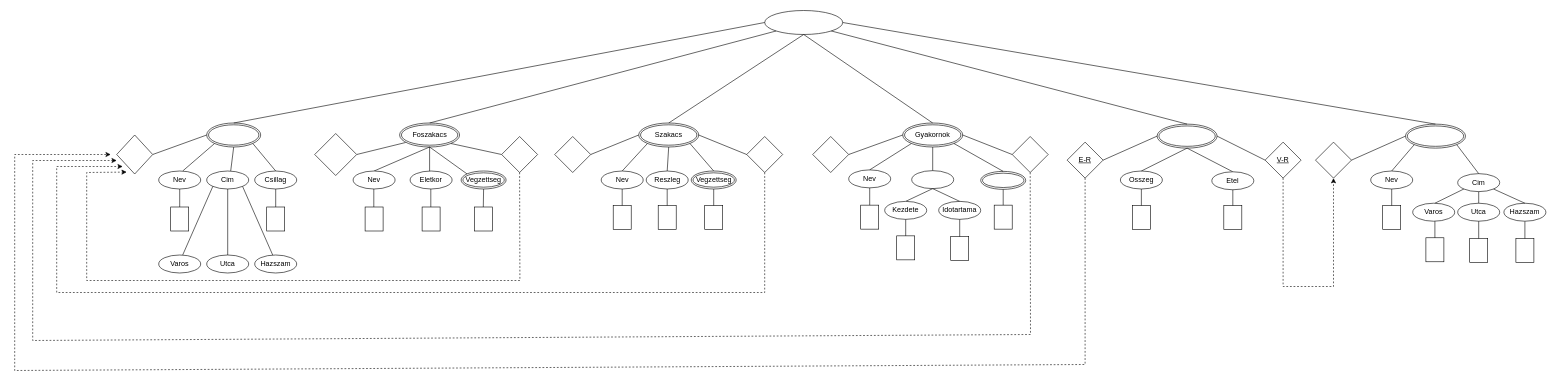
This 1556x386 diagram has some shape labels left out. The centre of each missing label's shape, as x and y in pixels:
"BK6QE8_vendeglatas" goes at point 803,22.
"E-F" goes at point 519,154.
"E-GY" goes at point 1030,154.
"E-SZ" goes at point 764,154.
"Ekod" goes at point 134,154.
"Etterem" goes at point 233,134.
"Fkod" goes at point 335,154.
"Gyakorlat" goes at point 932,179.
"Gykod" goes at point 830,154.
"Muszak" goes at point 1003,180.
"Rendeles" goes at point 1186,136.
"Szkod" goes at point 572,154.
"Vendeg" goes at point 1435,136.
"Vkod" goes at point 1333,160.
